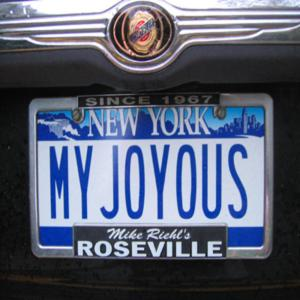Vehicle-registration-plate: (34, 94, 273, 266)
